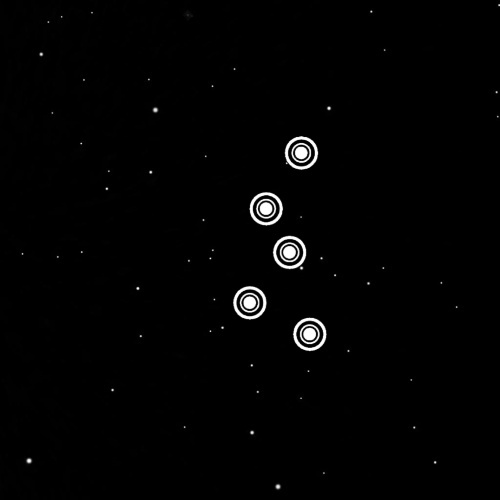cassiopeia: (217, 120, 335, 359)
